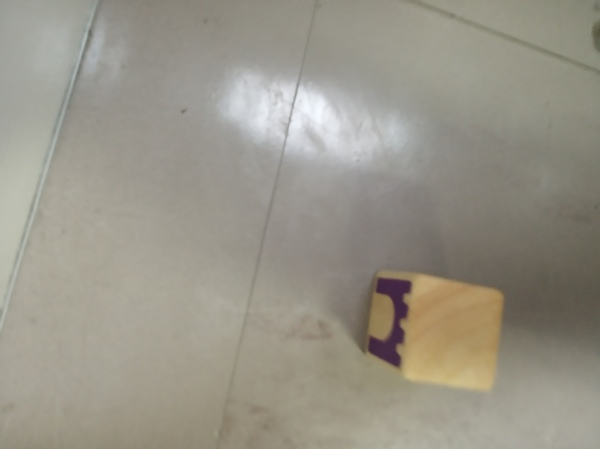violet: (367, 271, 506, 381)
